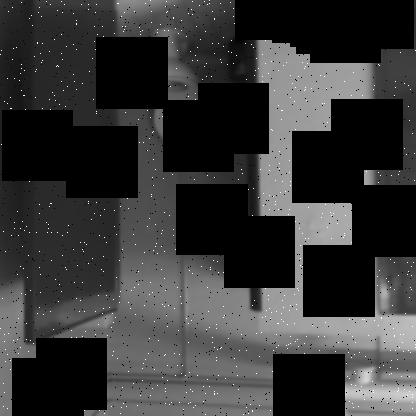Porte: (20, 0, 263, 346)
